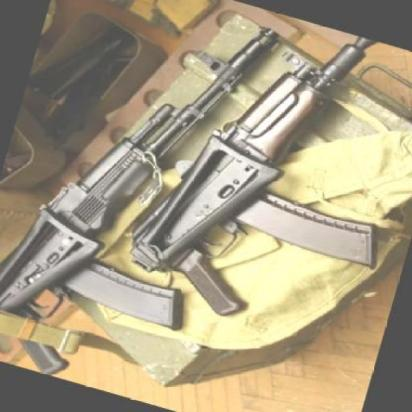Gun: (135, 29, 392, 302)
